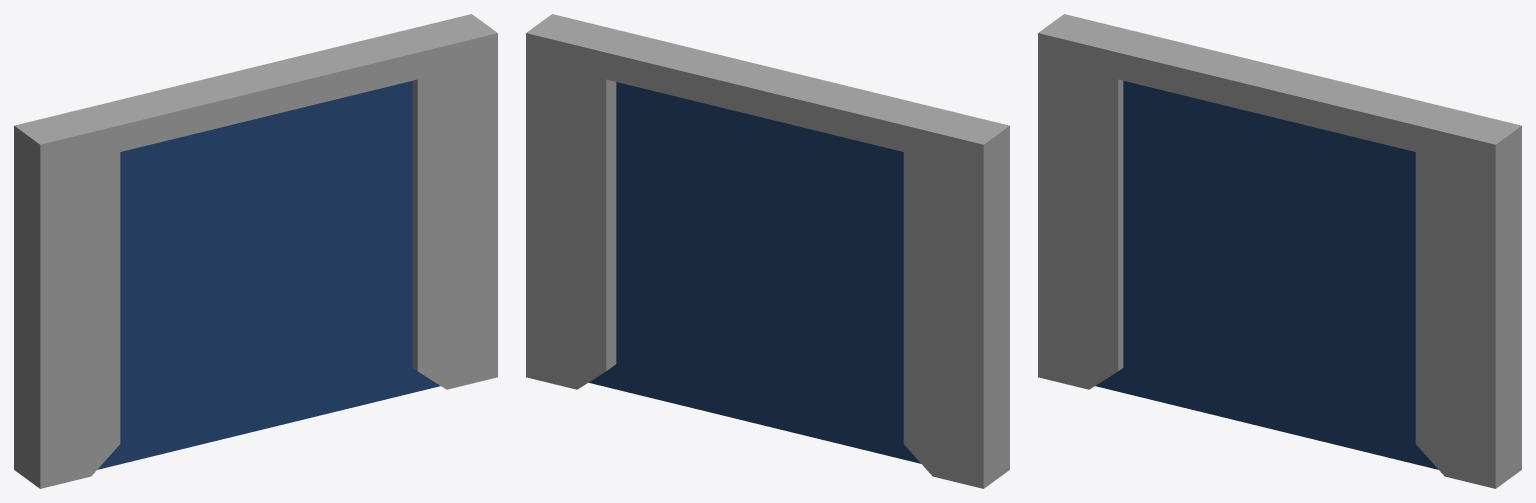
Rendered from Doors.fbx.
The picture shows the model from 3 angles, left to right: view 1: azimuth 30°, elevation 25°; view 2: azimuth 150°, elevation 25°; view 3: azimuth 330°, elevation 25°; orthographic projection.
Parts seen in each view (by area): view 1: DoorsEnergyPanel, Doors; view 2: DoorsEnergyPanel, Doors; view 3: DoorsEnergyPanel, Doors.
Part boxes in pixels (x1,y1,x2,y2): DoorsEnergyPanel: [97, 81, 440, 469]; Doors: [14, 14, 497, 488]; DoorsEnergyPanel: [589, 82, 920, 463]; Doors: [526, 14, 1009, 488]; DoorsEnergyPanel: [1095, 81, 1438, 469]; Doors: [1038, 14, 1521, 488].
Size of the model in its own units: 400 by 287 by 39.53.
